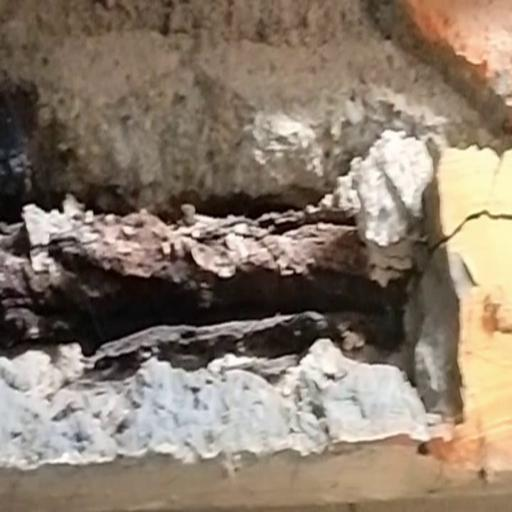spalling: (0, 0, 471, 466)
